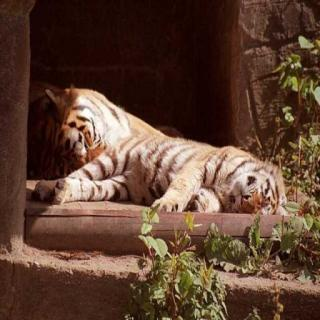Tiger: (21, 76, 287, 216)
